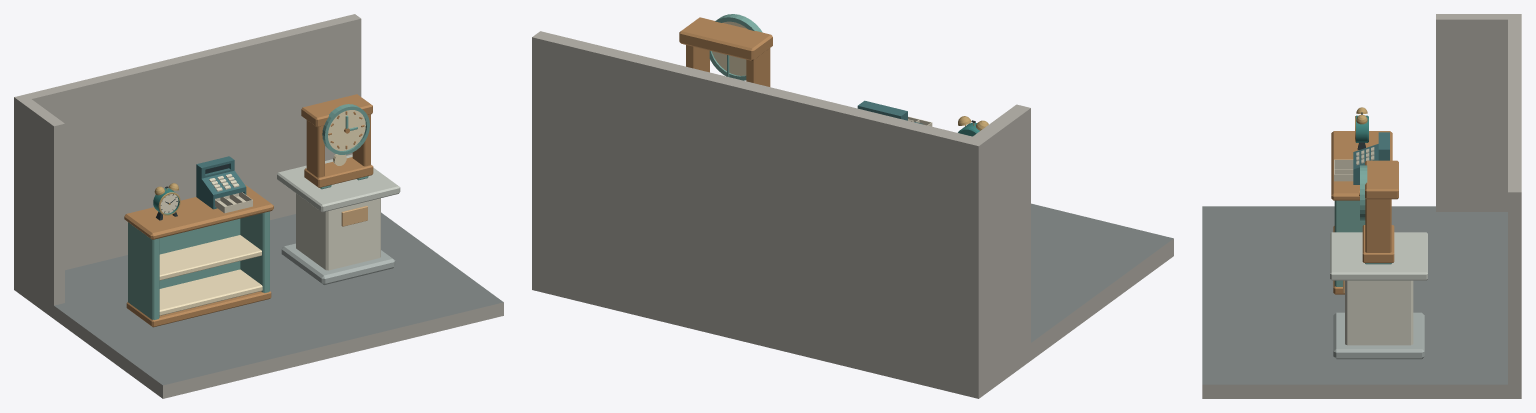
The picture shows the model from 3 angles, left to right: view 1: azimuth 30°, elevation 25°; view 2: azimuth 150°, elevation 25°; view 3: azimuth 270°, elevation 25°; orthographic projection. The views are drawn at different scales.
Visible parts, largest first — view 1: SCENE_ONLY__ClockShopFloorAndCutawayWalls, counter__dining-service-counter-01, plinth__museum-exhibit-plinth-01, clock__timekeeping-pendulum-clock-01, register__IntegralBayDeckDisplayChassis, register__ContinuousThreeWellExtendedTill; view 2: SCENE_ONLY__ClockShopFloorAndCutawayWalls, clock__timekeeping-pendulum-clock-01; view 3: SCENE_ONLY__ClockShopFloorAndCutawayWalls, plinth__museum-exhibit-plinth-01, clock__timekeeping-pendulum-clock-01, counter__dining-service-counter-01, register__IntegralBayDeckDisplayChassis, register__ContinuousThreeWellExtendedTill, alarm__Case_DeepClosedBackShell.
Part boxes in pixels (x1,y1,x2,y2): SCENE_ONLY__ClockShopFloorAndCutawayWalls: (14,14,503,398); counter__dining-service-counter-01: (124,185,273,327); plinth__museum-exhibit-plinth-01: (277,154,400,284); clock__timekeeping-pendulum-clock-01: (301,94,373,189); register__IntegralBayDeckDisplayChassis: (196,156,246,209); register__ContinuousThreeWellExtendedTill: (215,192,252,213); SCENE_ONLY__ClockShopFloorAndCutawayWalls: (532,31,1173,398); clock__timekeeping-pendulum-clock-01: (679,14,772,86); SCENE_ONLY__ClockShopFloorAndCutawayWalls: (1202,14,1521,398); plinth__museum-exhibit-plinth-01: (1330,232,1427,359); clock__timekeeping-pendulum-clock-01: (1359,160,1398,264); counter__dining-service-counter-01: (1331,131,1392,294); register__IntegralBayDeckDisplayChassis: (1353,132,1389,184); register__ContinuousThreeWellExtendedTill: (1334,159,1353,181); alarm__Case_DeepClosedBackShell: (1355,115,1368,142).
Bounding box in the file's own units: 3.7 × 2 × 2.8.
